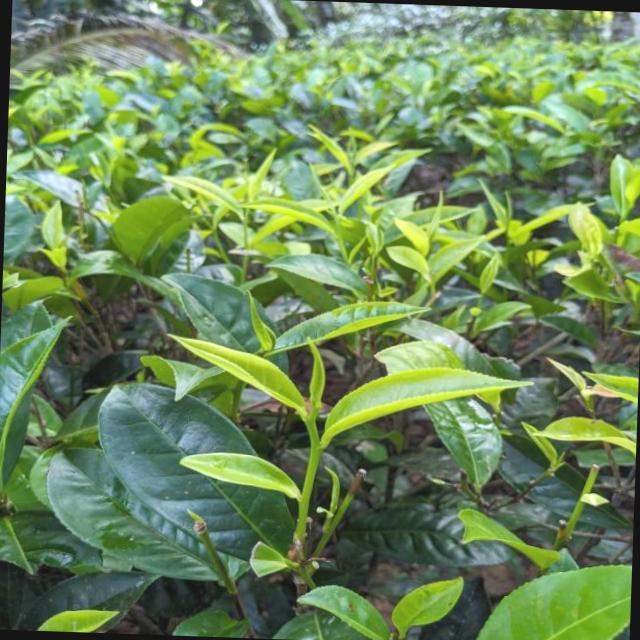Stem: (304, 446, 321, 477), (333, 233, 342, 245), (241, 218, 245, 231)
